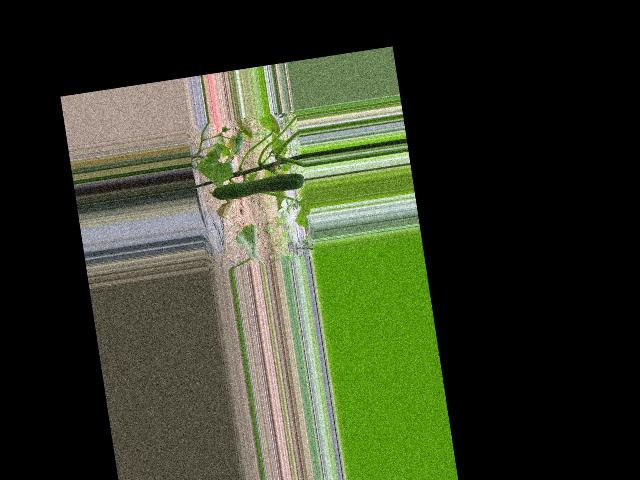cucumber: (208, 171, 305, 202)
